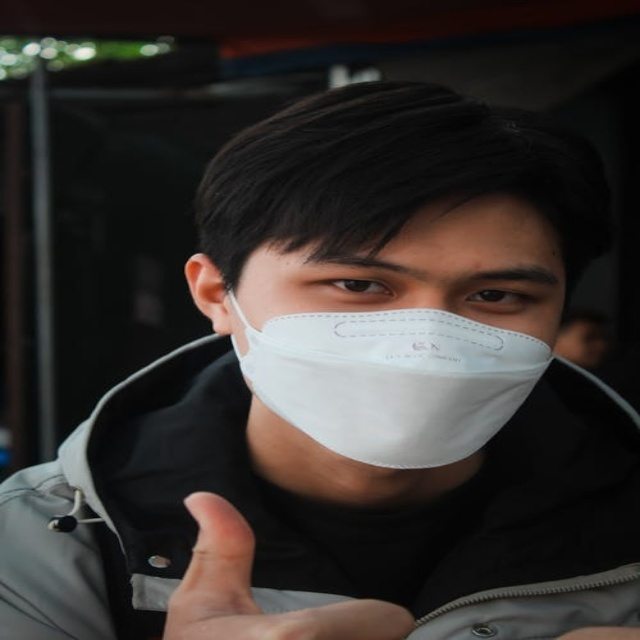Mascara: (222, 284, 556, 469)
Sin_gafas: (269, 243, 562, 322)
Sin_guantes: (155, 483, 422, 637)
